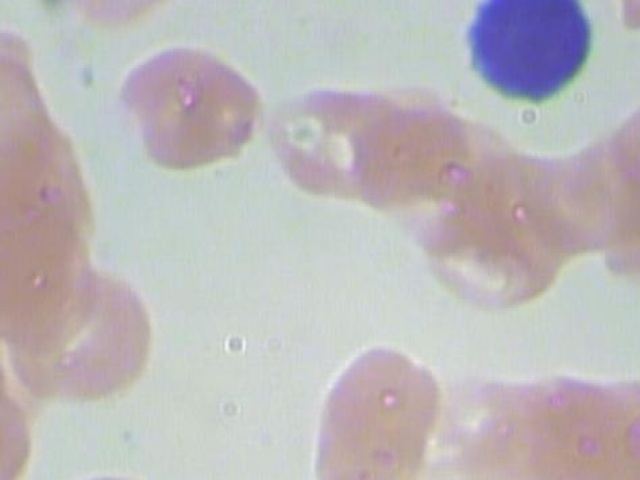RBC: (0, 259, 167, 402), (270, 69, 422, 207), (305, 337, 447, 480), (115, 40, 260, 177), (0, 166, 91, 342), (444, 366, 568, 480), (513, 139, 628, 255), (0, 51, 59, 181), (591, 361, 640, 480), (53, 0, 202, 28), (300, 460, 430, 480), (35, 470, 227, 480)
WBC: (455, 0, 615, 112)
